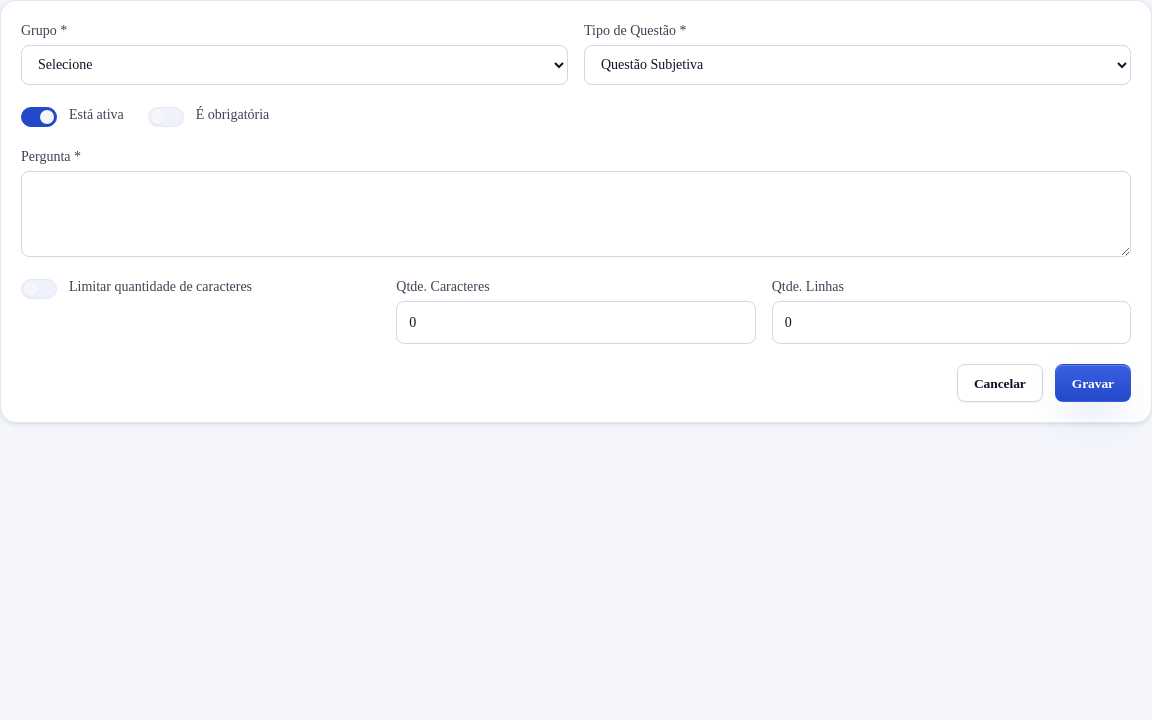
QuestaoForm › subjetiva mostra qtde de linhas; única escolha troca por alternativas
Check: the number field labelled "Qtde. Linhas" is shown, box [772,301,1131,344]
Select "Questão Objetiva de Única Escolha" in the dropdown labelled "Tipo de Questão *": {"x": 858, "y": 65} [584,45,1131,85]
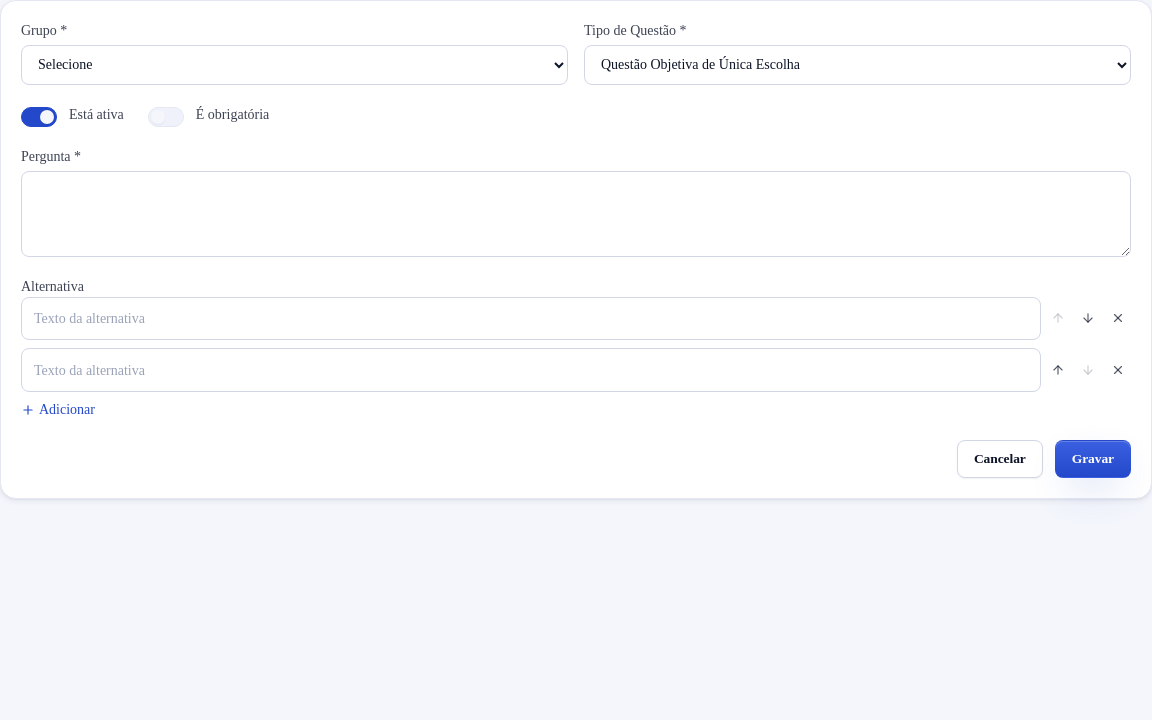
Check: the label labelled "Qtde. Linhas" is gone
Check: the field named "Alternativa 1" is shown, box [21,297,1041,340]
Check: the field named "Alternativa 2" is shown, box [21,348,1041,392]
